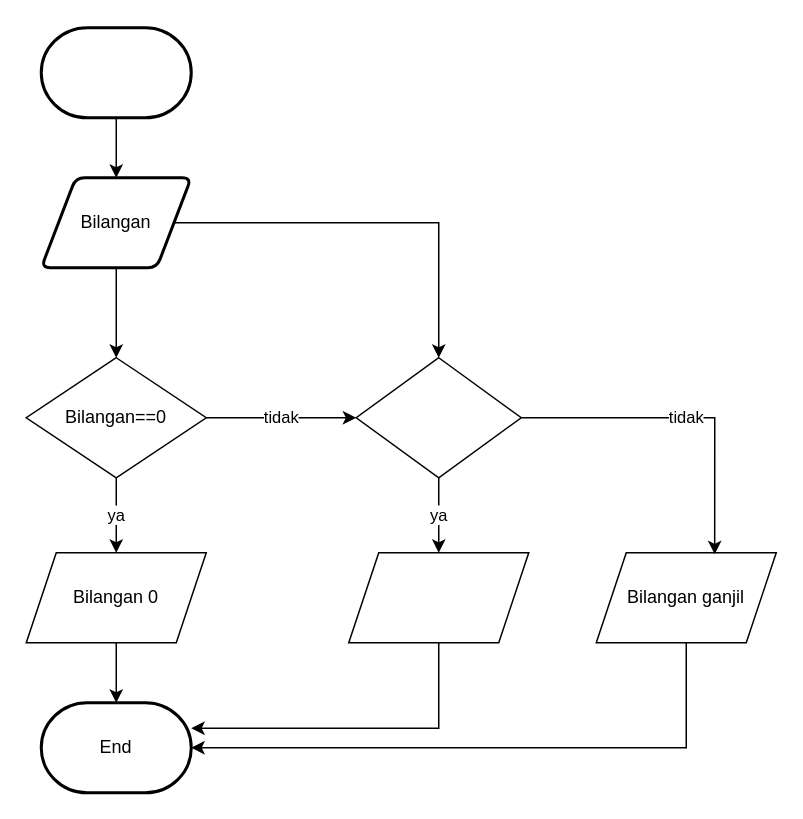
Some shapes in this 803 by 819 pixel diagram are drawn without their labels. Each missing label, with the box of its shape:
Bilangan genap: (347, 551, 529, 643)
Bilangan%2==0: (355, 356, 521, 478)
Start: (39, 26, 192, 118)
